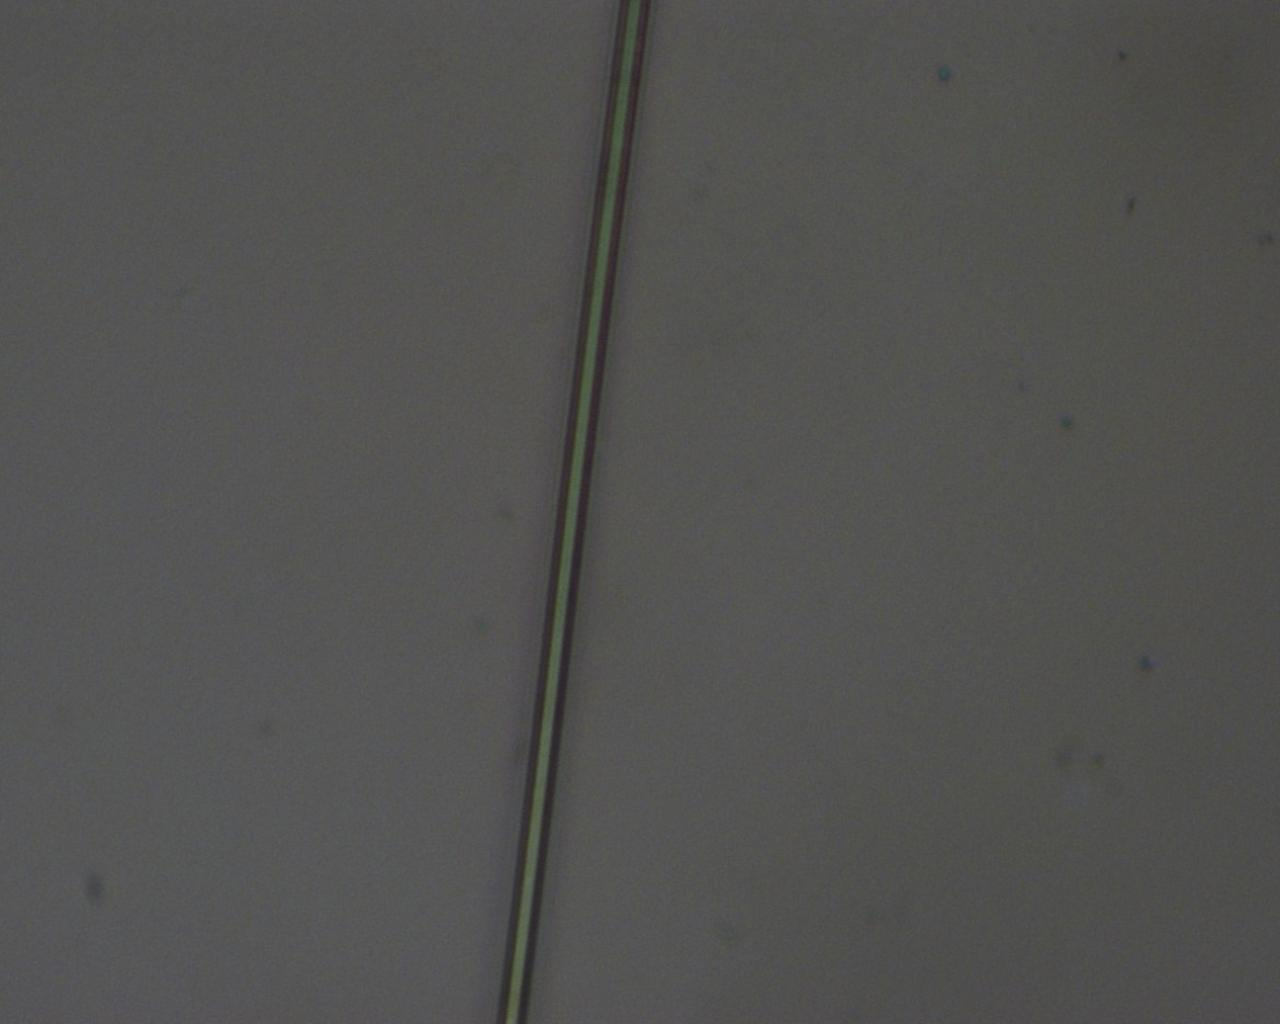fiber: (840, 583, 1072, 1024)
